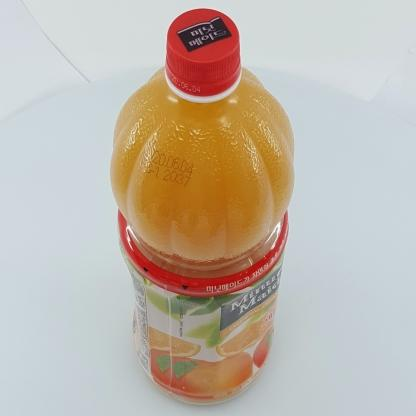------------1-5L: (109, 8, 295, 406)
